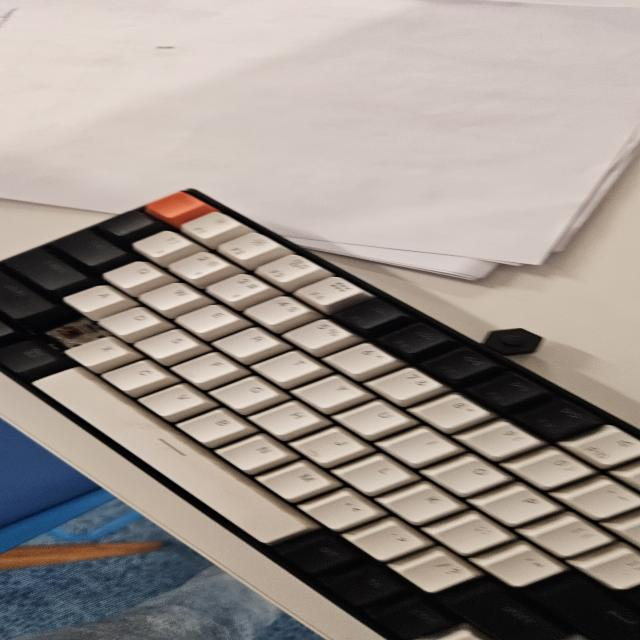C: (45, 325, 92, 345)
